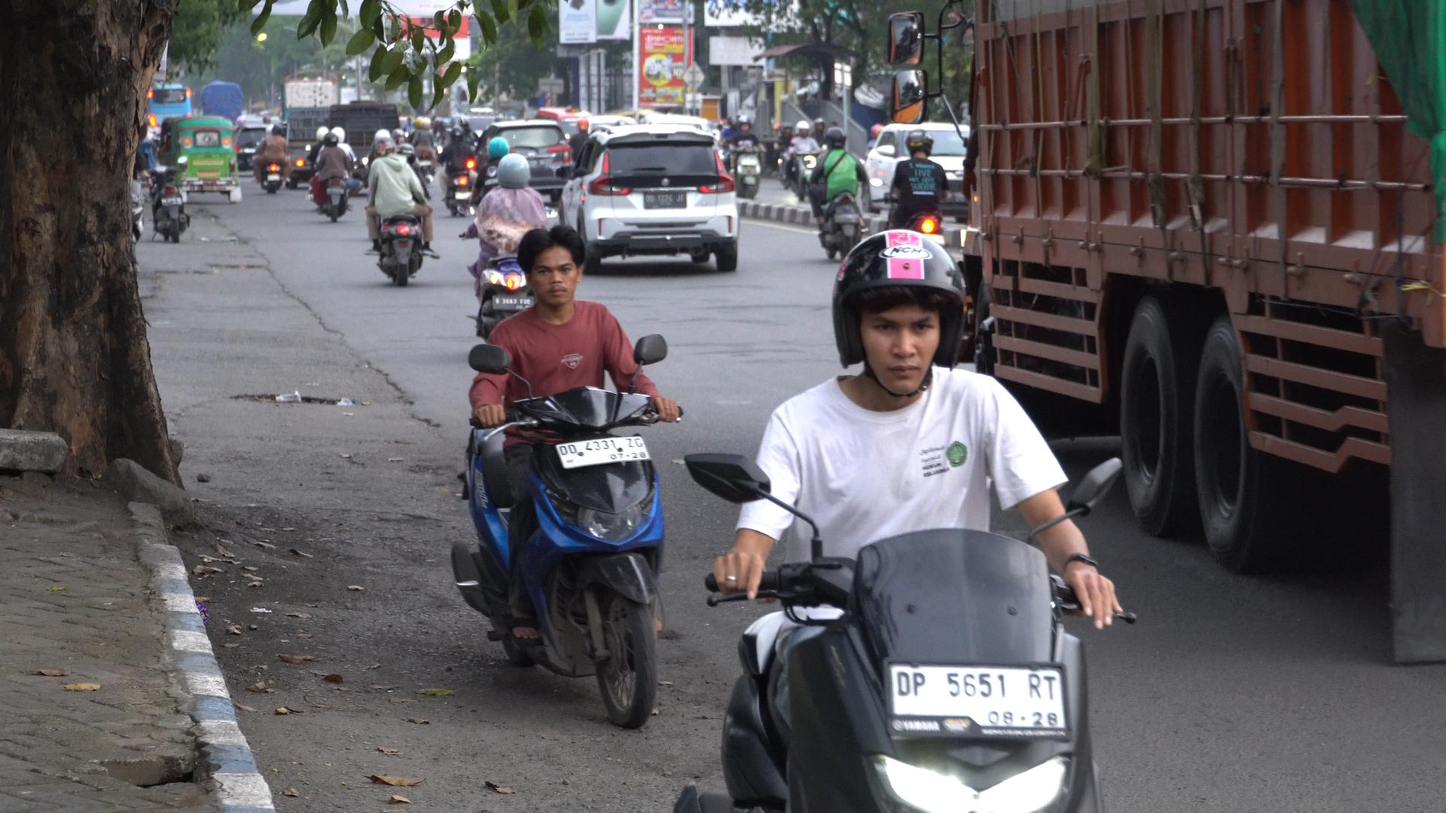number-plate: (889, 655, 1073, 745), (551, 433, 654, 471)
